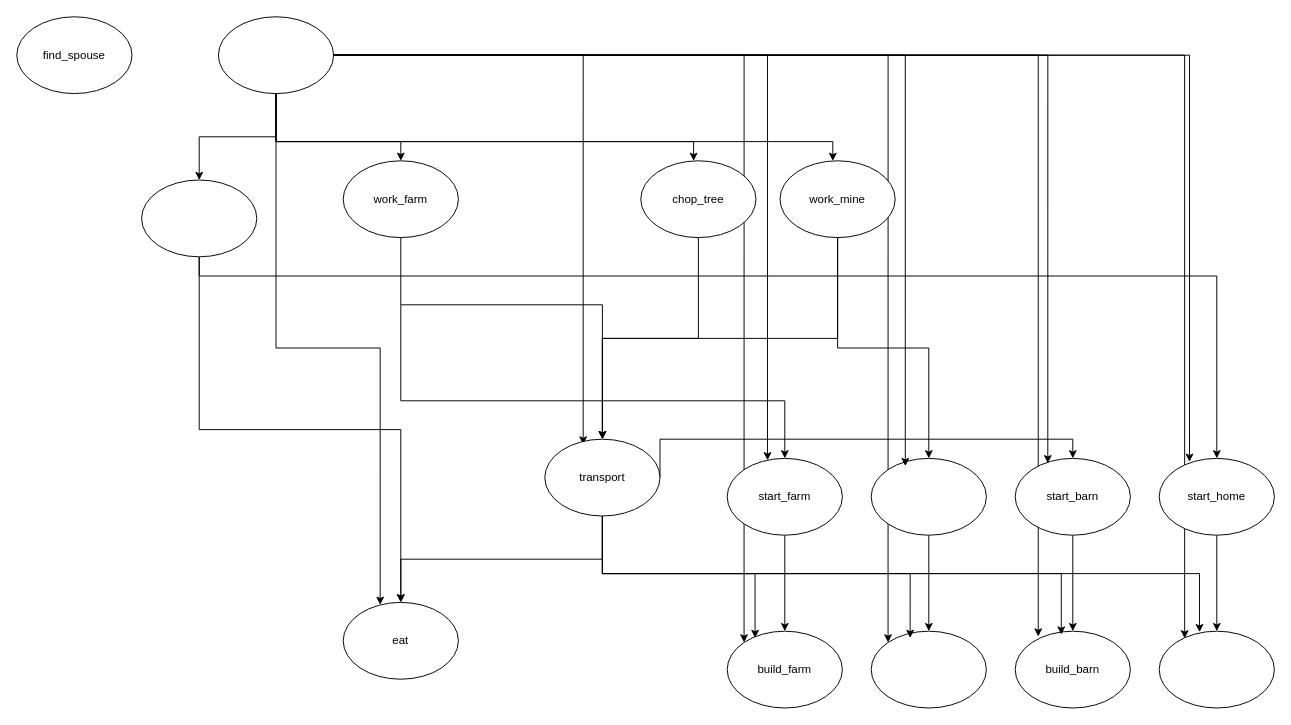
This 1291x725 diagram has some shape labels left out. Each missing label, with the centre of its shape:
"build_home" goes at (1216,669).
"build_mine" goes at (928,669).
"explore" goes at (275,55).
"find_home" goes at (199,218).
"start_mine" goes at (928,496).
